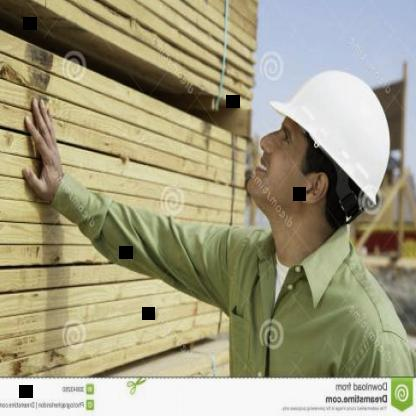helmet: (246, 44, 400, 258)
